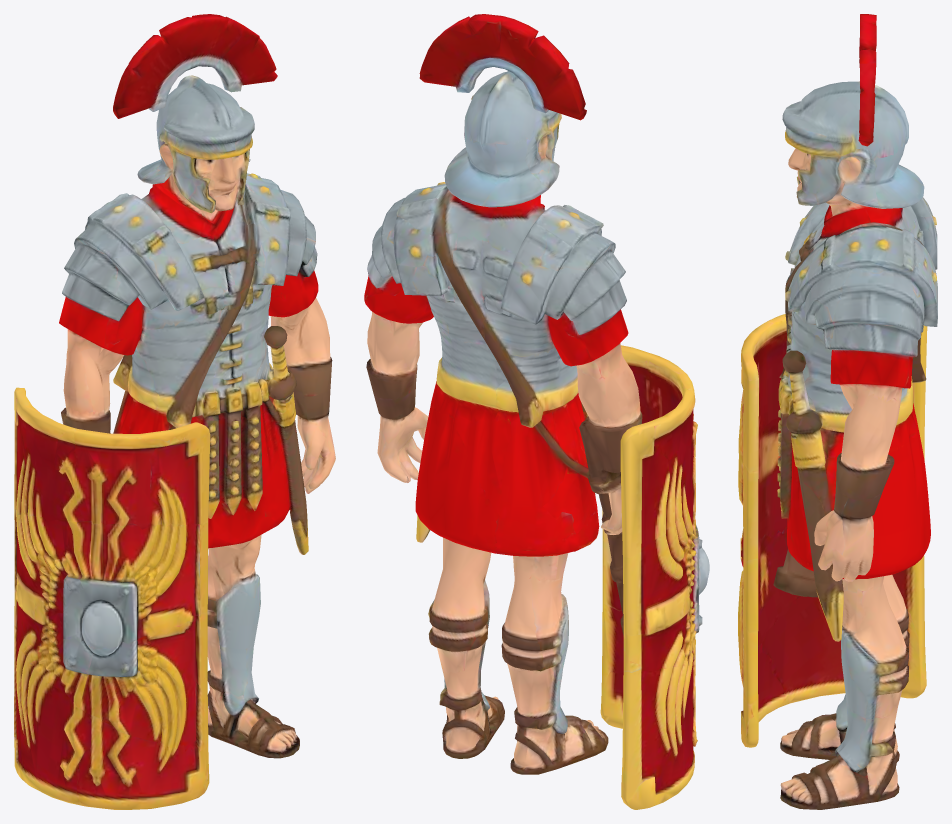
Rendered from legionary.glb.
The picture shows the model from 3 angles, left to right: view 1: azimuth 30°, elevation 25°; view 2: azimuth 150°, elevation 25°; view 3: azimuth 270°, elevation 25°; orthographic projection. The views are drawn at different scales.
Size of the model in its own units: 0.8339 by 1.9 by 0.4574.
Materials: 1 (1 with a texture image).
